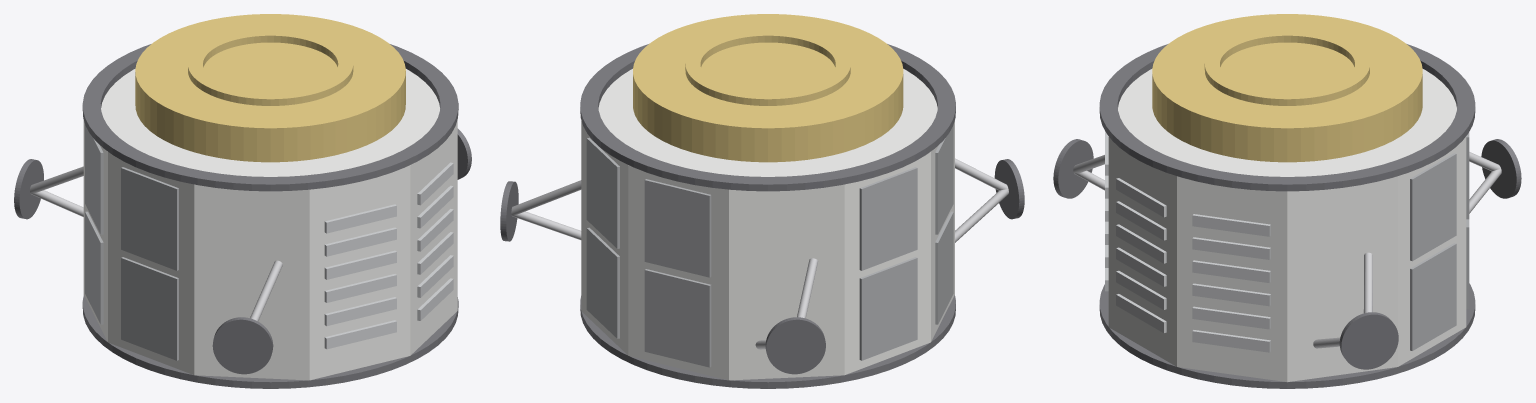
The model's file is cmd02_deep_space_bus.glb.
3 renders of one model, left to right at view 1: azimuth 30°, elevation 25°; view 2: azimuth 150°, elevation 25°; view 3: azimuth 270°, elevation 25°, orthographic.
Visible parts, largest first — view 1: bus_structure, upper_equipment_module, stack_rings, slot_bay_doors, thermal_louvers, rtg_mount_pads, rtg_brackets; view 2: bus_structure, upper_equipment_module, slot_bay_doors, stack_rings, rtg_mount_pads, rtg_brackets; view 3: bus_structure, upper_equipment_module, stack_rings, thermal_louvers, slot_bay_doors, rtg_mount_pads, rtg_brackets.
Part boxes in pixels (x1,y1,x2,y2): bus_structure: (83, 68, 457, 380); upper_equipment_module: (135, 14, 405, 162); stack_rings: (82, 44, 458, 388); slot_bay_doors: (85, 124, 178, 360); thermal_louvers: (324, 162, 453, 349); rtg_mount_pads: (14, 128, 471, 374); rtg_brackets: (30, 166, 282, 321); bus_structure: (581, 69, 954, 380); upper_equipment_module: (633, 14, 903, 162); slot_bay_doors: (586, 125, 953, 367); stack_rings: (580, 44, 955, 388); rtg_mount_pads: (500, 159, 1024, 374); rtg_brackets: (511, 158, 1008, 349); bus_structure: (1108, 69, 1466, 381); upper_equipment_module: (1152, 14, 1422, 162); stack_rings: (1099, 44, 1475, 388); thermal_louvers: (1105, 131, 1270, 352); slot_bay_doors: (1410, 132, 1469, 350); rtg_mount_pads: (1053, 139, 1521, 369); rtg_brackets: (1073, 152, 1501, 348).
Bounding box in the file's own units: 3 × 1.8 × 3.11.
